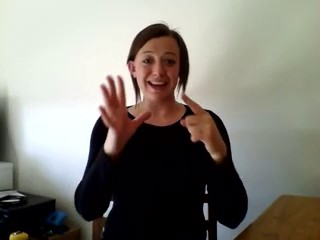A: (68, 65, 216, 167)
